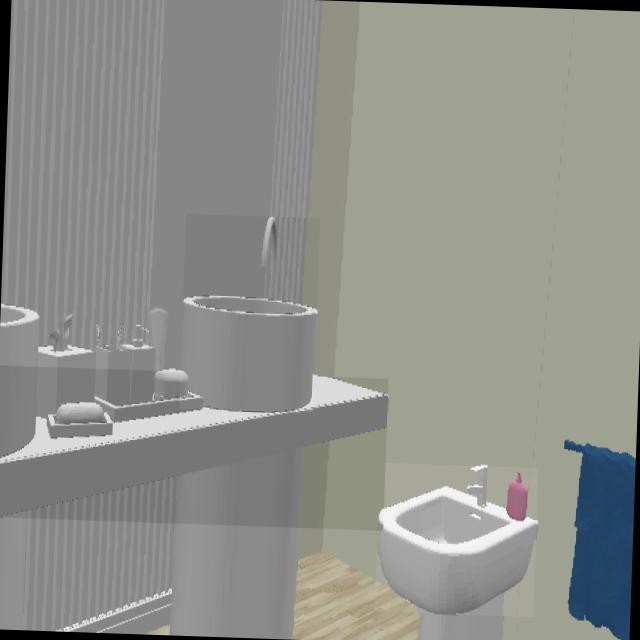shelf: (0, 376, 387, 516)
washbasin: (181, 217, 315, 412), (378, 466, 535, 614)
